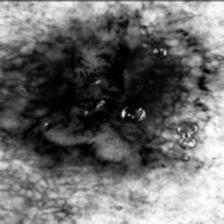Potentially Malignant Skin Tumors: (22, 10, 212, 170)
